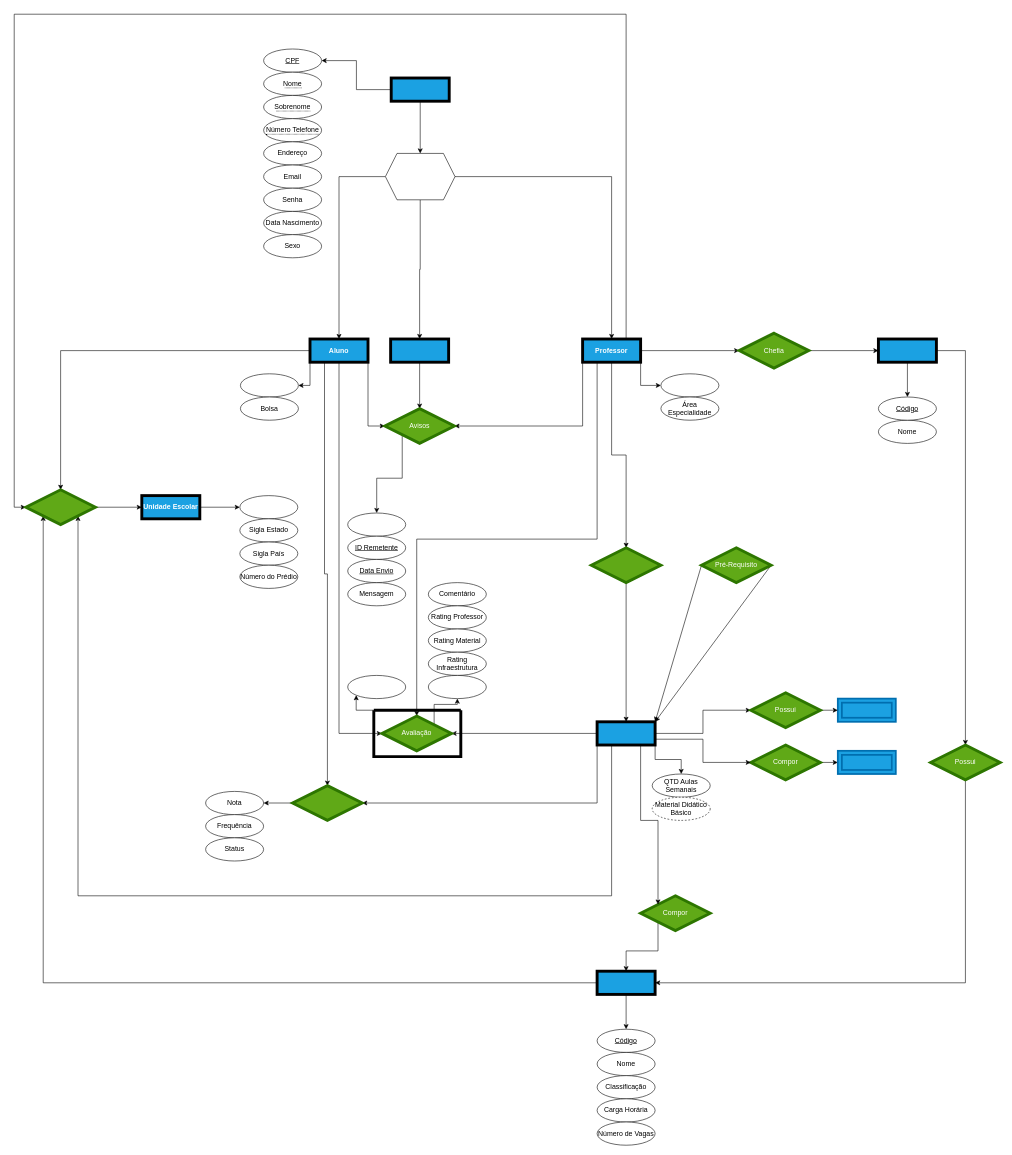
This 1012x1155 diagram has some shape labels left out. Each missing label, with the box of its shape:
Associa: (24, 488, 97, 526)
Curso: (595, 969, 656, 996)
Departamento: (877, 337, 938, 363)
Disciplina: (595, 720, 656, 746)
Ementa: (837, 697, 896, 722)
Funcionário: (389, 337, 450, 363)
ID Avaliação: (347, 675, 406, 699)
ID Destino: (347, 512, 406, 536)
Matrícula: (291, 784, 363, 822)
Ministra: (590, 546, 662, 584)
Nome Cidade: (239, 495, 298, 519)
Rating Relevância: (428, 675, 486, 699)
Registro Aluno: (240, 373, 298, 397)
Titulação: (660, 373, 719, 397)
Turma: (837, 750, 896, 775)
Usuário: (389, 76, 450, 102)
